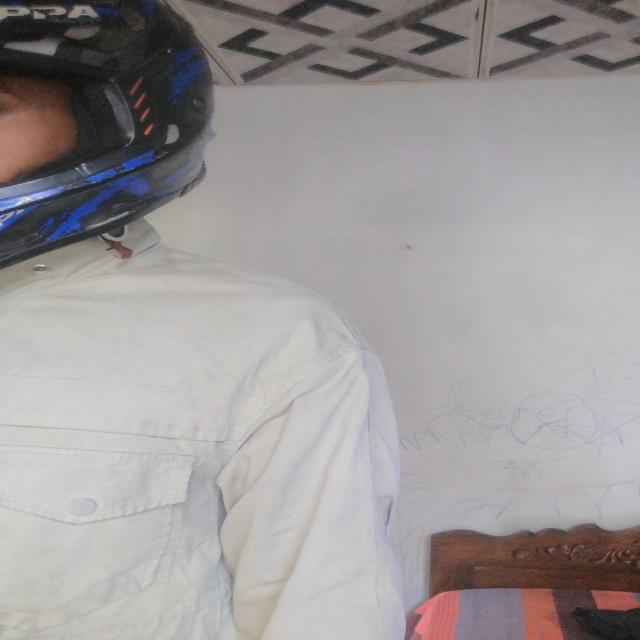Helmet_Wearer: (3, 0, 231, 284)
Jacket_Wearer: (0, 224, 388, 640)
Person: (0, 0, 394, 640)
